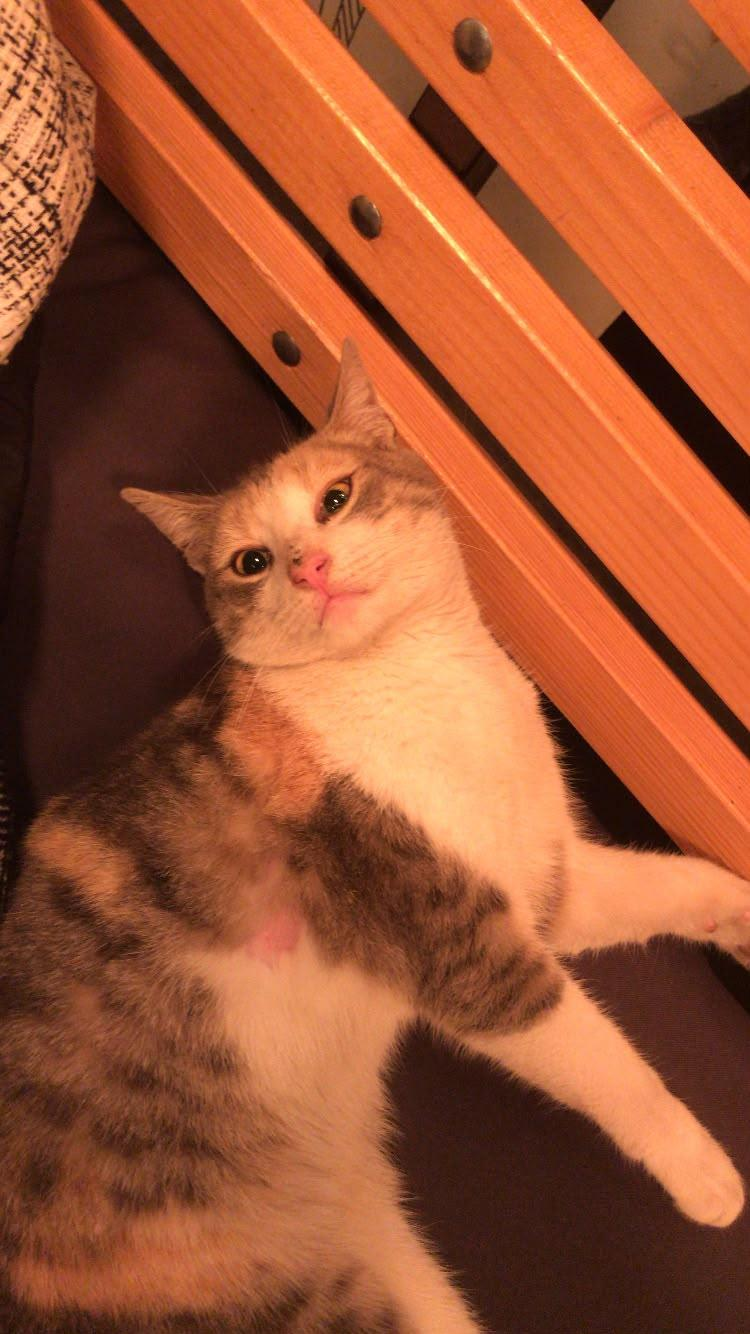macka: (0, 338, 749, 1333)
